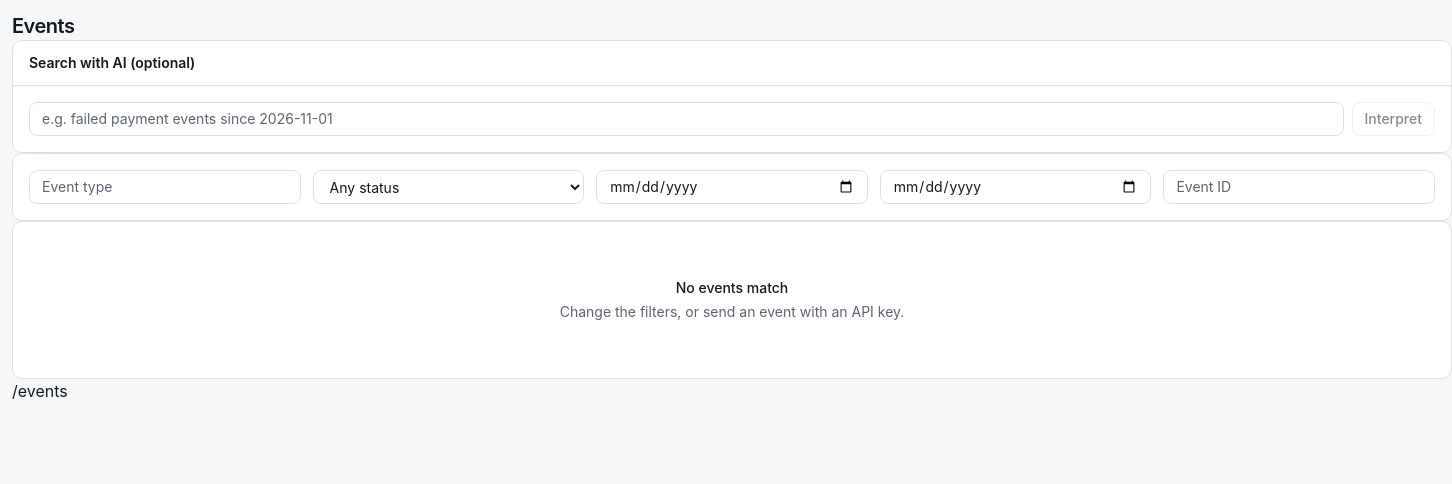
Test: AI controls › search shows interpreted filters as chips and loads nothing until applied
Type "failed payments since nov 1" into the field named "Describe the events you want" at {"x": 686, "y": 119}, box [29, 102, 1344, 136]
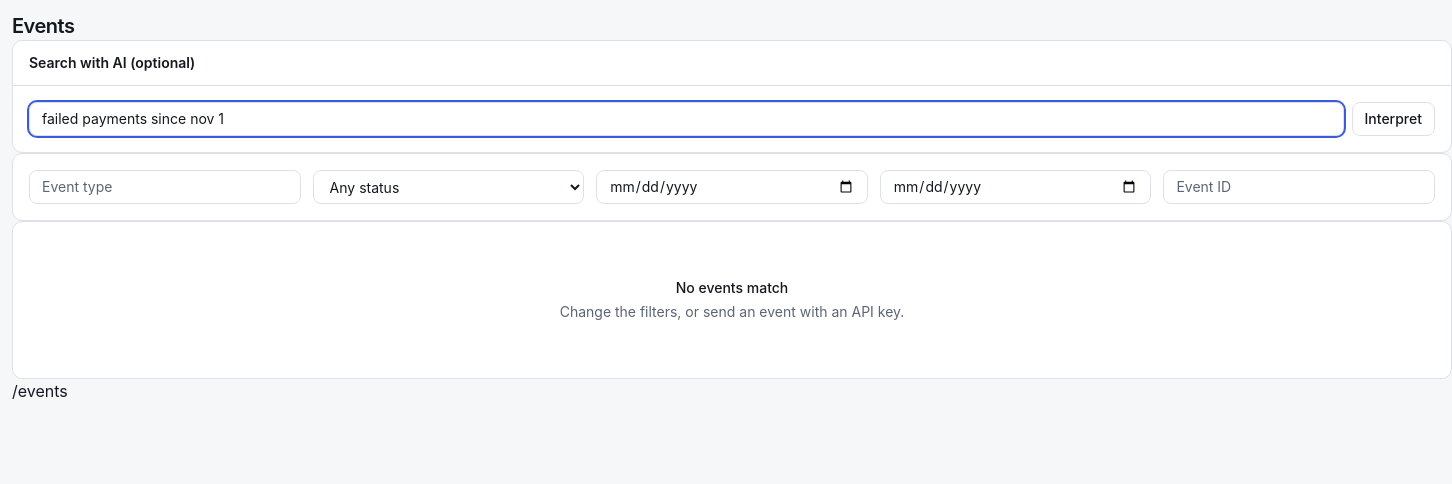
Click the button "Interpret" at {"x": 1393, "y": 119}, box [1352, 102, 1435, 136]
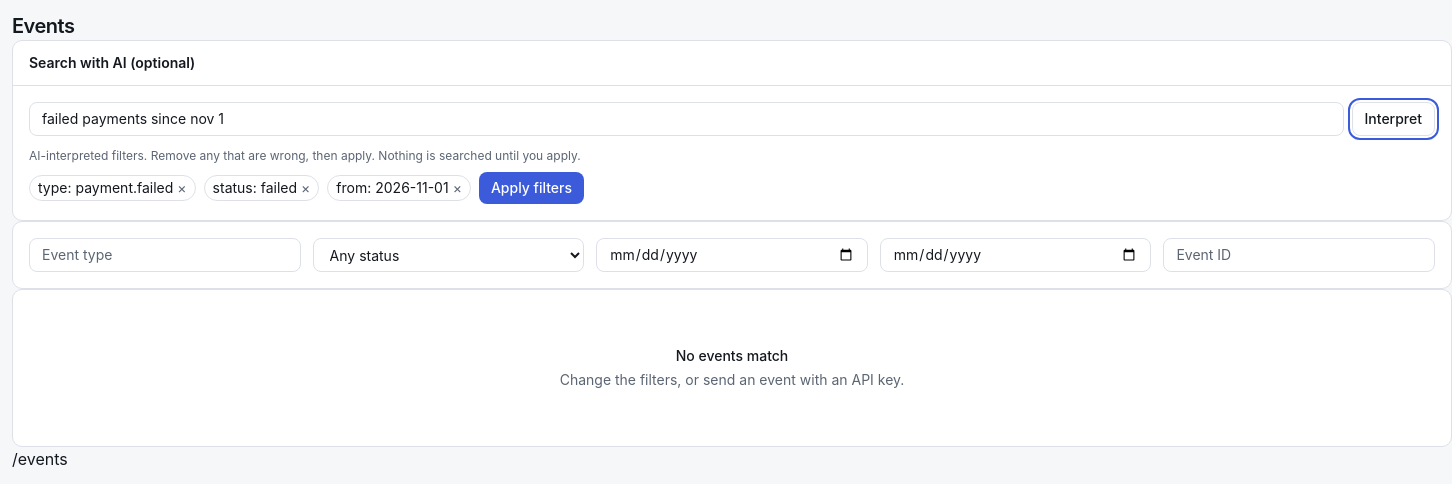
Now the element with test id "ai-chips" shows "type: payment.failed", box [29, 148, 584, 204]
Now the element with test id "ai-chips" shows "status: failed", box [29, 148, 584, 204]
Click the button named "Remove status filter" at {"x": 306, "y": 188}, box [301, 178, 310, 198]
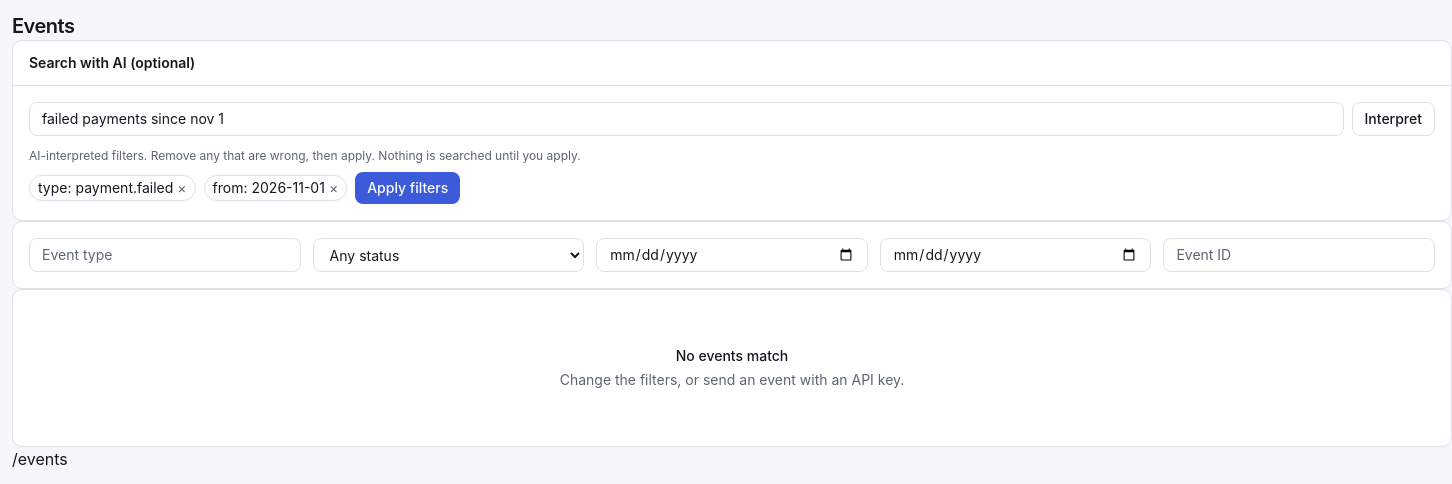
Now the element with test id "ai-chips" no longer shows "status: failed", box [29, 148, 581, 204]
Click the button "Apply filters" at {"x": 408, "y": 188}, box [355, 172, 460, 204]
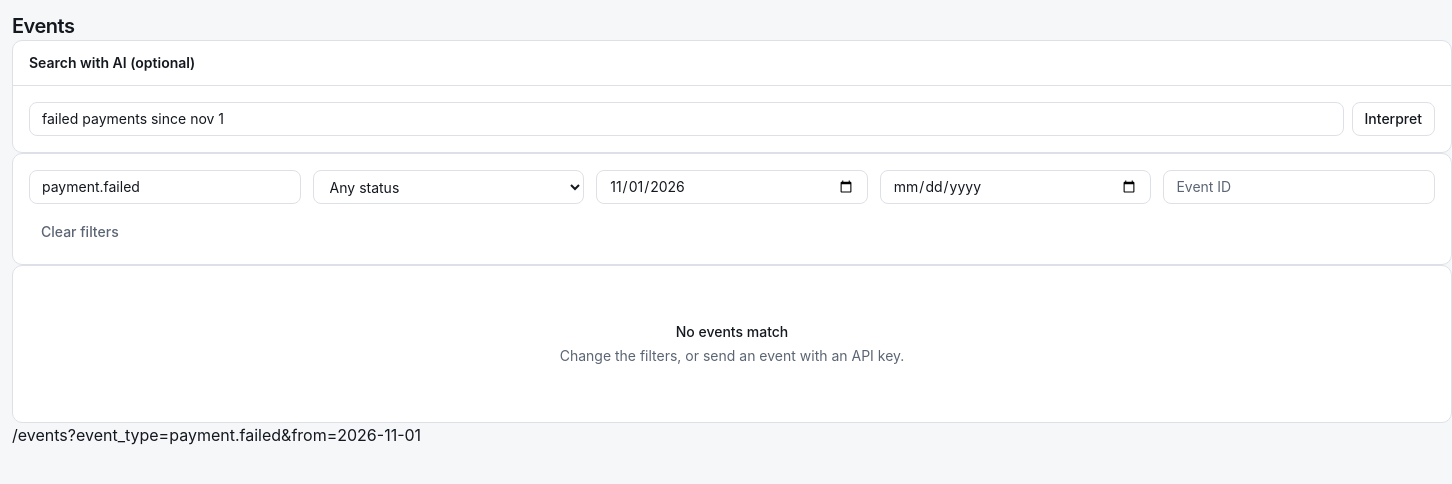
Now the text with test id "location" reads "/events?event_type=payment.failed&from=2026-11-01", box [12, 425, 421, 445]
